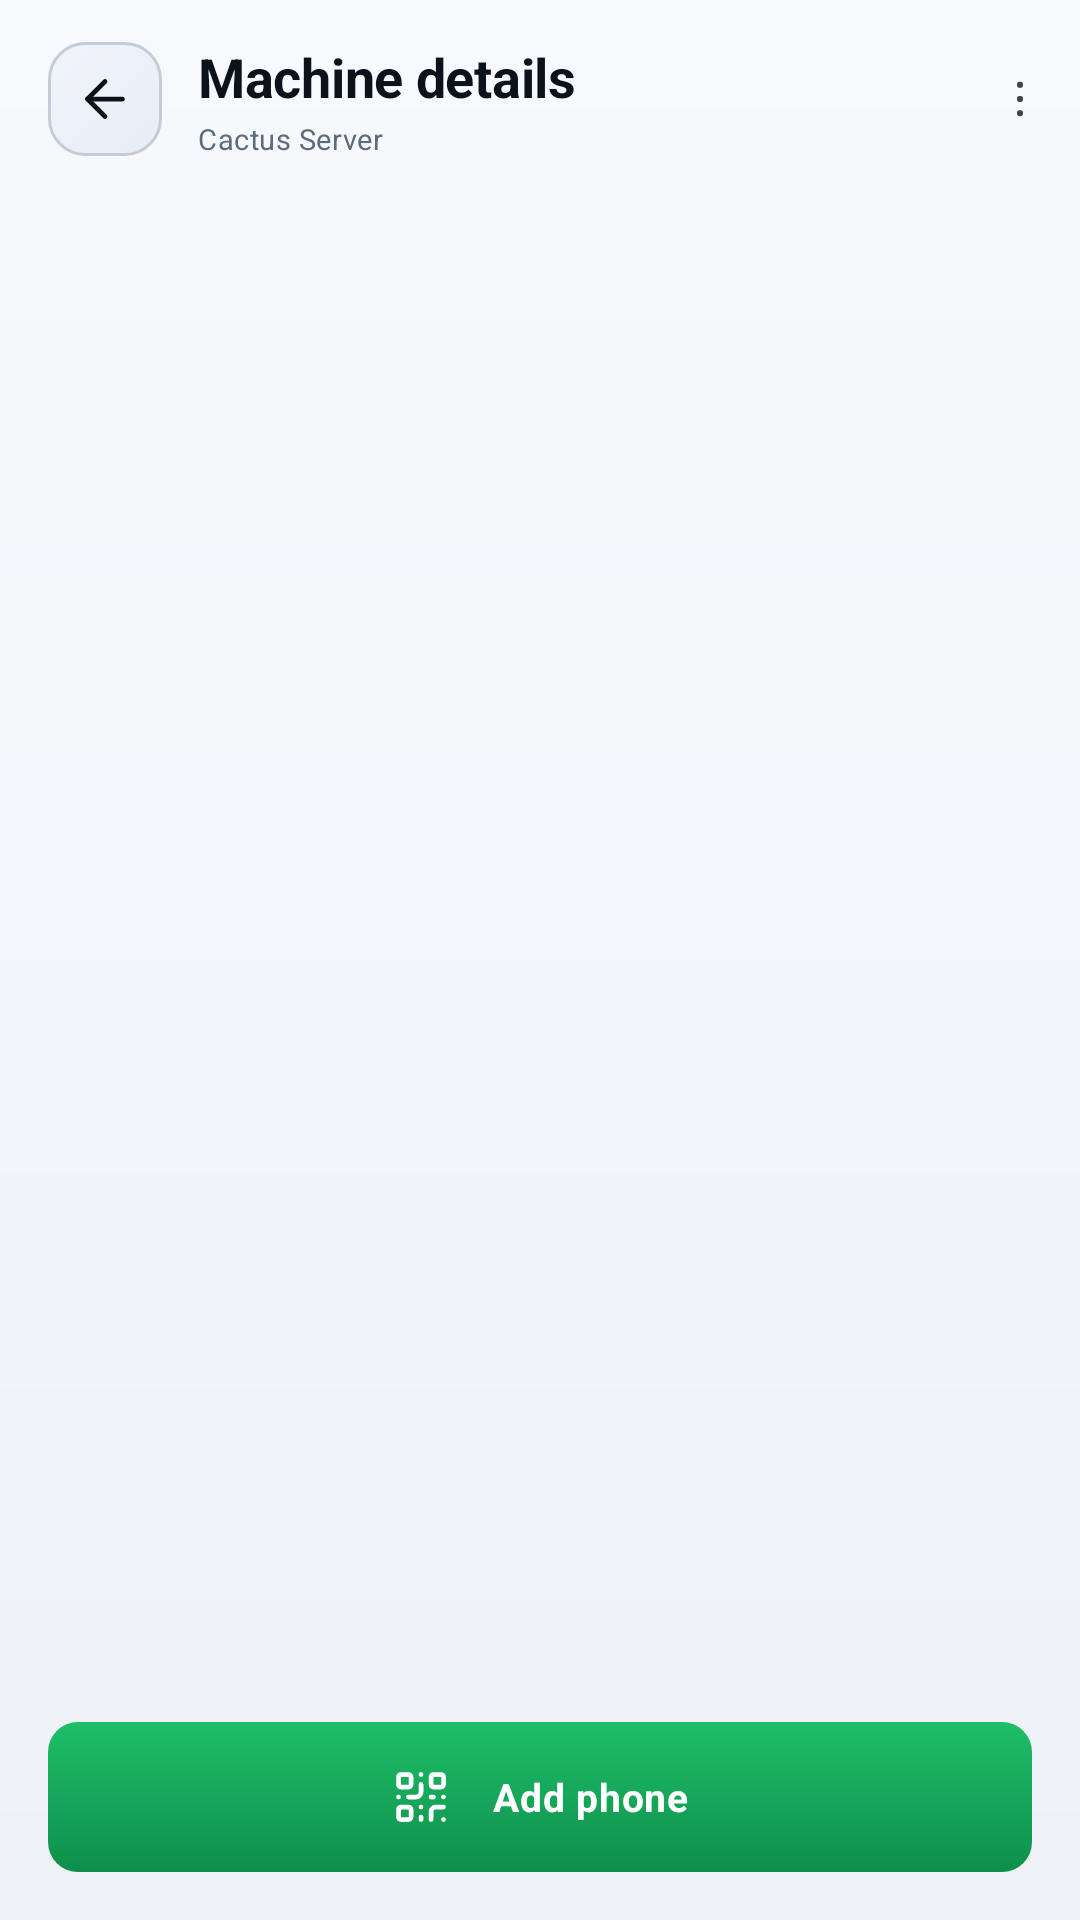

Icon bounding boxes for this 1080w x 1920h phone screenshot, format (x1, y1, x2, y2):
Back: (48, 42, 162, 156)
More: (1017, 81, 1023, 117)
qr code: (391, 1767, 451, 1822)
